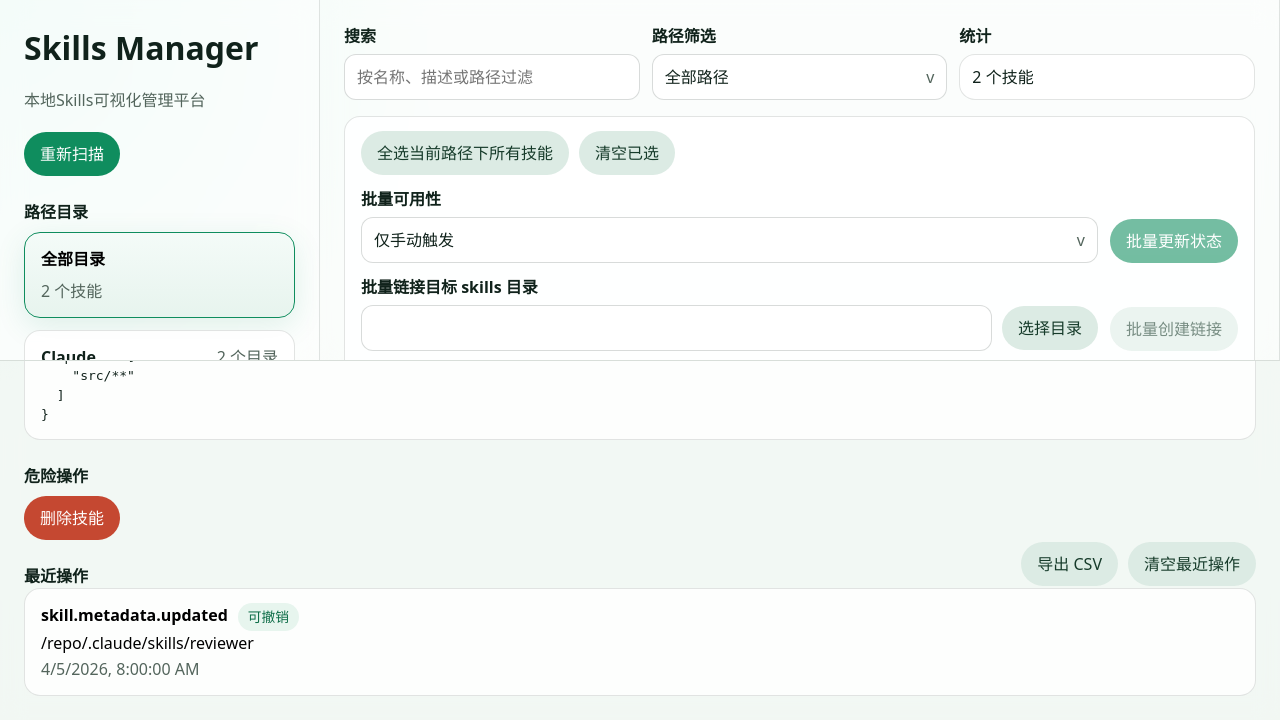
Test: App › exports recent actions as csv
The image size is (1280, 720).
(page scrolled)
Expected: the heading "Skills Manager" is shown, [24,24,295,72]
Click the button "导出 CSV". click: coordinates (1070, 564)
box: [1021,542,1118,586]
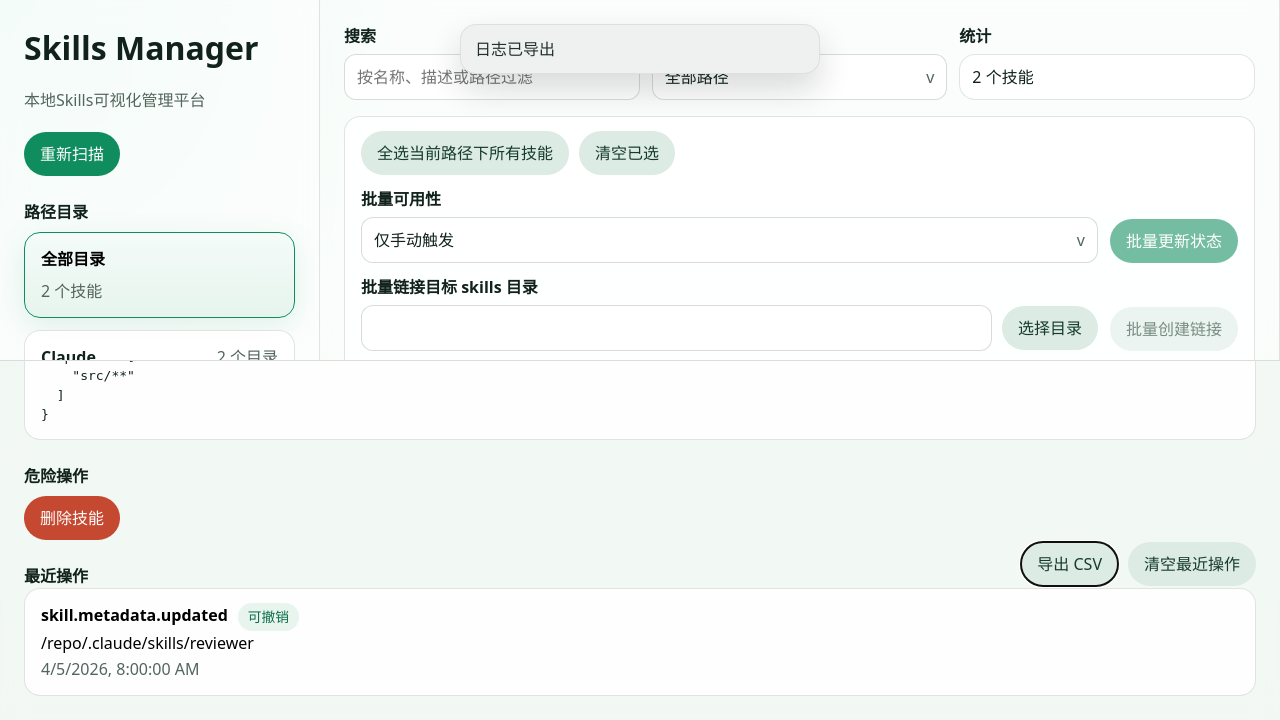
Result: the text "日志已导出" is shown at [460,24,820,74]
